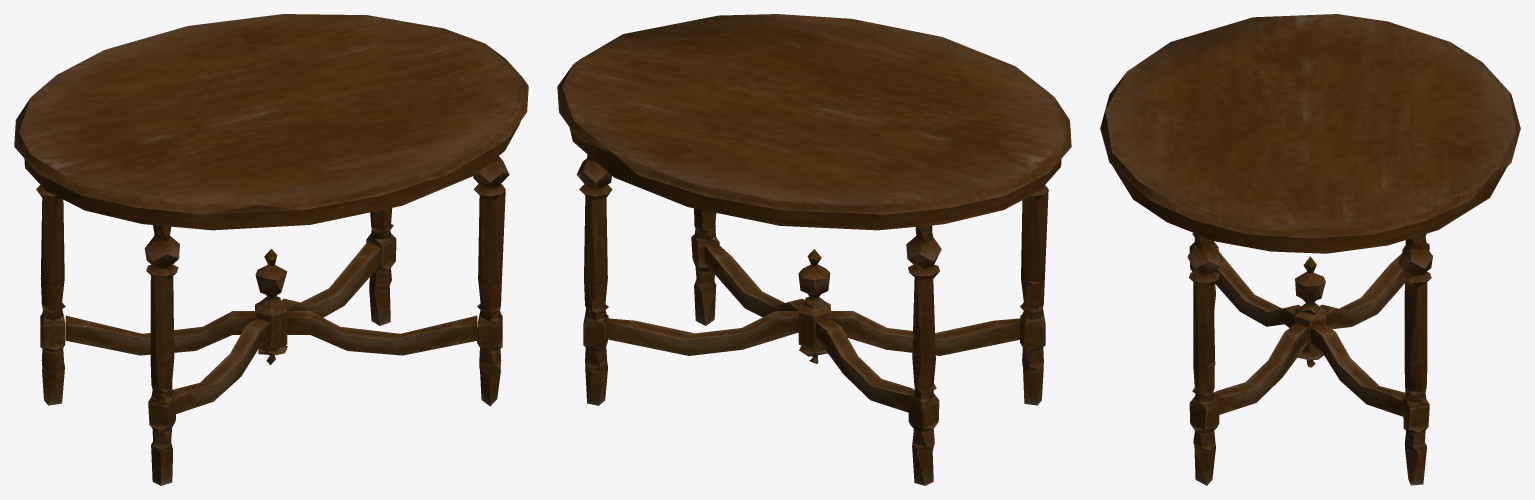
File: table-dining-rect.lod1.glb
3 renders of one model, left to right at view 1: azimuth 30°, elevation 25°; view 2: azimuth 150°, elevation 25°; view 3: azimuth 270°, elevation 25°, orthographic. The views are drawn at different scales.
Parts seen in each view (by area): view 1: table-dining-rect; view 2: table-dining-rect; view 3: table-dining-rect.
Boxes of the visible parts, box(x1,y1,x2,y2) form: table-dining-rect: box(14, 14, 528, 485); table-dining-rect: box(557, 14, 1071, 485); table-dining-rect: box(1100, 14, 1520, 485).
Size of the model in its own units: 1.27 by 0.7599 by 1.02.
1 material, 1 textured.
